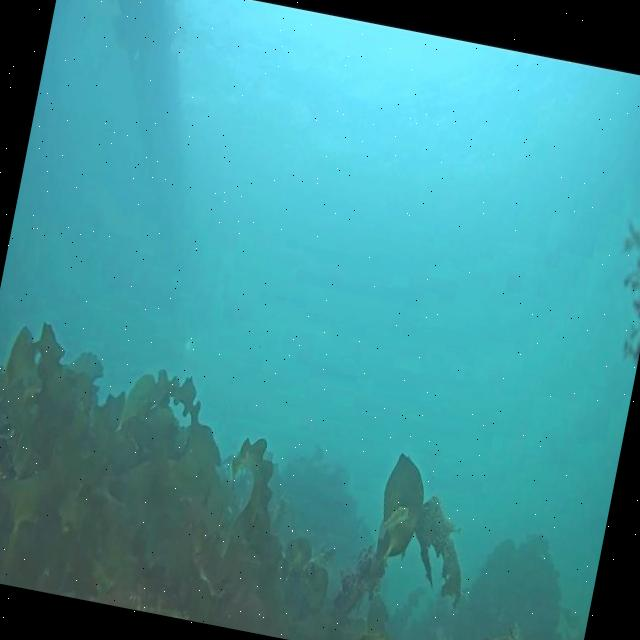fish: (378, 504, 409, 538)
